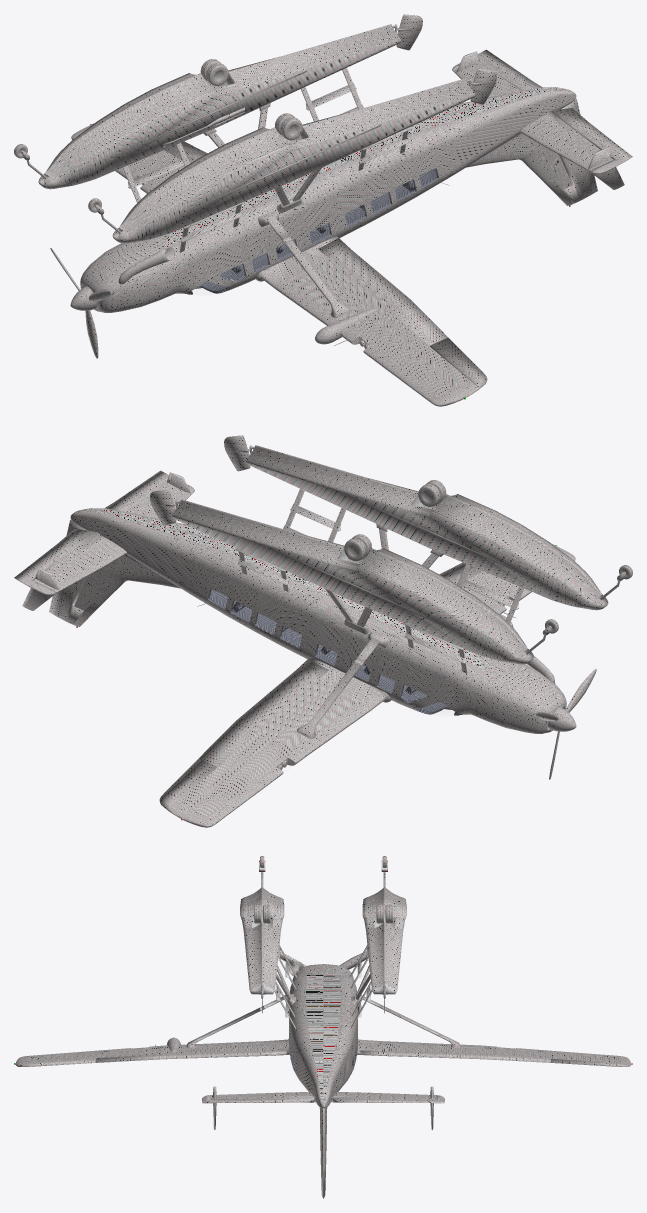
The model's file is Neoflycrashedplane1.gltf.
The picture shows the model from 3 angles, top to bottom: view 1: azimuth 30°, elevation 25°; view 2: azimuth 150°, elevation 25°; view 3: azimuth 270°, elevation 25°; orthographic projection. The views are drawn at different scales.
Parts seen in each view (by area): view 1: flotteurs, fuselage, ailes, axes, voletD, ailes2, profondeur, interieur, barres, direction, aileronD, porteAD (+9 smaller); view 2: flotteurs, fuselage, ailes, axes, voletG, ailes2, profondeur, interieur, porteB, barres, direction, aileronG (+8 smaller); view 3: fuselage, flotteurs, ailes, axes, ailes2, voletD, voletG, profondeur, barres, direction.
Part boxes in pixels (<box>): flotteurs: <box>38,24,474,243</box>; fuselage: <box>80,87,576,312</box>; ailes: <box>71,123,486,406</box>; axes: <box>123,68,411,252</box>; voletD: <box>318,238,447,346</box>; ailes2: <box>453,61,613,171</box>; profondeur: <box>452,49,632,173</box>; interieur: <box>199,169,436,290</box>; barres: <box>258,210,349,317</box>; direction: <box>559,99,597,203</box>; aileronD: <box>430,337,487,385</box>; porteAD: <box>211,236,249,284</box>; flotteurs: <box>172,445,608,664</box>; fuselage: <box>70,508,566,733</box>; ailes: <box>160,544,575,827</box>; axes: <box>235,489,523,673</box>; voletG: <box>199,659,328,767</box>; ailes2: <box>33,482,193,592</box>; profondeur: <box>14,470,194,594</box>; interieur: <box>210,590,447,711</box>; porteB: <box>255,584,310,631</box>; barres: <box>297,631,388,738</box>; direction: <box>49,520,87,624</box>; aileronG: <box>159,758,216,806</box>; fuselage: <box>289,964,357,1176</box>; flotteurs: <box>240,886,406,994</box>; ailes: <box>15,1038,631,1066</box>; axes: <box>274,945,372,1028</box>; ailes2: <box>210,1092,436,1102</box>; voletD: <box>96,1050,286,1062</box>; voletG: <box>360,1050,550,1062</box>; profondeur: <box>202,1095,444,1103</box>; barres: <box>186,994,460,1047</box>; direction: <box>320,1108,326,1198</box>.
Size of the model in its own units: 13.33 by 5.43 by 15.85.
